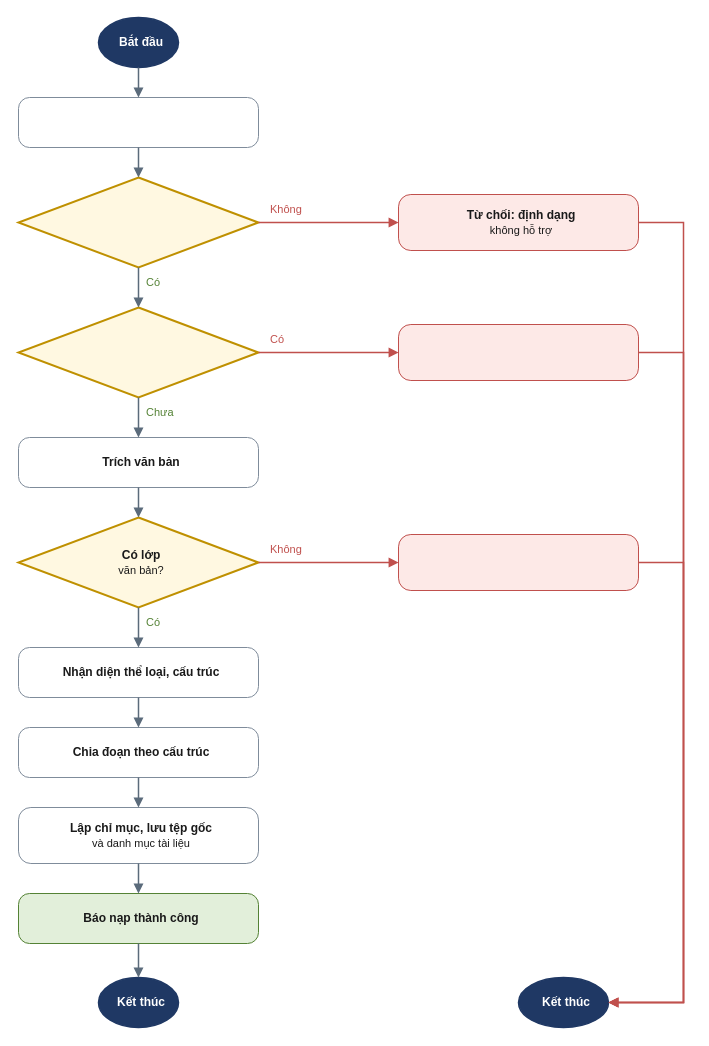
Image size: 709x1046. Some labels were removed from this diagram. The shapes that lost their labels are listed below. From the top down, each one's centre as x and y in pixels, then its label:
At point 138,122: "Người dùng chọn tệp".
At point 138,222: "Định dạng được hỗ trợ?".
At point 138,352: "Đã có trong kho?".
At point 518,352: "Báo đã tồn tại, không nạp lại".
At point 518,562: "Từ chối: tài liệu dạng ảnh quét".
